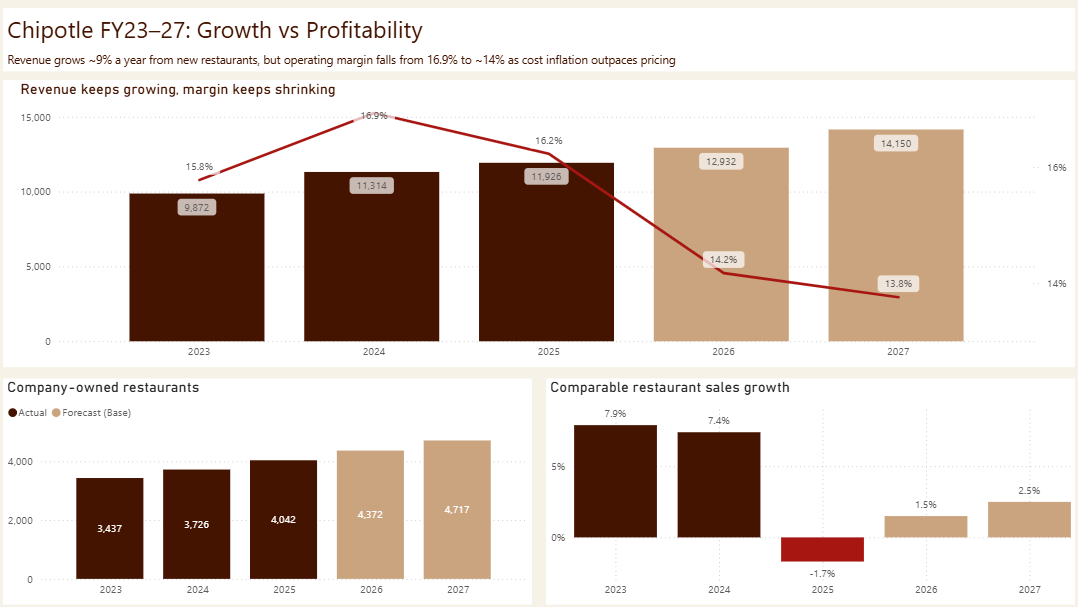

The dashboard page shown, as its layout file describes it:
{"tool":"powerbi","page":{"name":"Trends FY23–27","canvas":[1280,720],"ordinal":1},"visuals":[{"type":"lineClusteredColumnComboChart","title":"Revenue keeps growing, margin keeps shrinking","fields":{"Y":["_Measures.Revenue"],"Y2":["_Measures.Operating Margin"],"Category":["dim_year.Year"]},"box":[24,96,1232,330],"z":0},{"type":"columnChart","title":"Company-owned restaurants","fields":{"Y":["Sum(fact_kpi.Restaurants_End)"],"Series":["fact_kpi.Version"],"Category":["dim_year.Year"]},"box":[24,440,608,260],"z":1000},{"type":"clusteredColumnChart","title":"Comparable restaurant sales growth","fields":{"Y":["Sum(fact_kpi.CompSales)"],"Category":["dim_year.Year"]},"box":[648,440,608,260],"z":2000},{"type":"textbox","box":[24.3,13,1232.2,47],"z":3000},{"type":"textbox","box":[24,58,1232,28],"z":4000}]}

Visuals, with their boxes in screenshot pixels (x1, y1, x2, y2), scaled from the page's 1280x720 canvas onto the 1078x607 screenshot:
"Revenue keeps growing, margin keeps shrinking" lineClusteredColumnComboChart: [20, 81, 1058, 359]
"Company-owned restaurants" columnChart: [20, 371, 532, 590]
"Comparable restaurant sales growth" clusteredColumnChart: [546, 371, 1058, 590]
textbox: [20, 11, 1058, 51]
textbox: [20, 49, 1058, 73]
